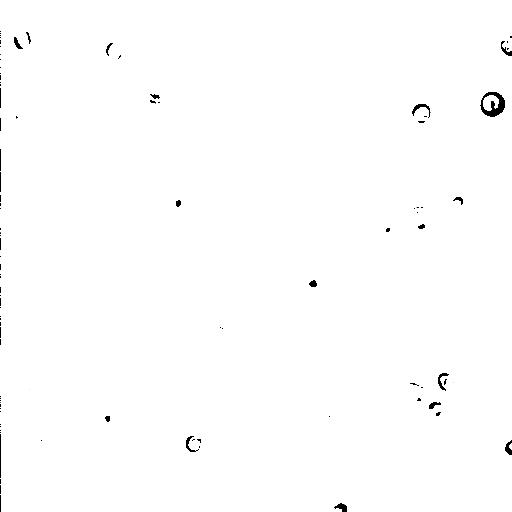micro-algae: (405, 301, 511, 411), (136, 48, 222, 132), (289, 223, 371, 305), (9, 454, 88, 511), (29, 0, 108, 36), (247, 125, 298, 175), (392, 461, 443, 507), (129, 2, 175, 49), (363, 75, 405, 117), (371, 6, 409, 45), (214, 242, 252, 277), (488, 461, 512, 511), (404, 203, 439, 237), (29, 435, 63, 465), (495, 198, 512, 256), (296, 267, 327, 297), (477, 90, 509, 119), (1, 97, 29, 128), (54, 146, 81, 178), (163, 189, 193, 217), (92, 405, 119, 432), (119, 335, 146, 362), (371, 213, 397, 238), (401, 382, 427, 407), (17, 370, 39, 397), (436, 370, 458, 393), (501, 130, 512, 172), (412, 102, 431, 125), (14, 29, 31, 51), (183, 434, 202, 453), (427, 399, 443, 421), (105, 42, 123, 61), (498, 32, 511, 58), (449, 195, 467, 213), (75, 0, 103, 11), (49, 1, 71, 13), (504, 333, 511, 369), (330, 501, 347, 511), (503, 437, 511, 457)
